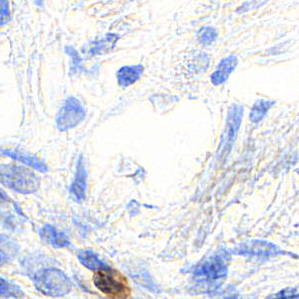Lymphocyte: (93, 268, 133, 299)
